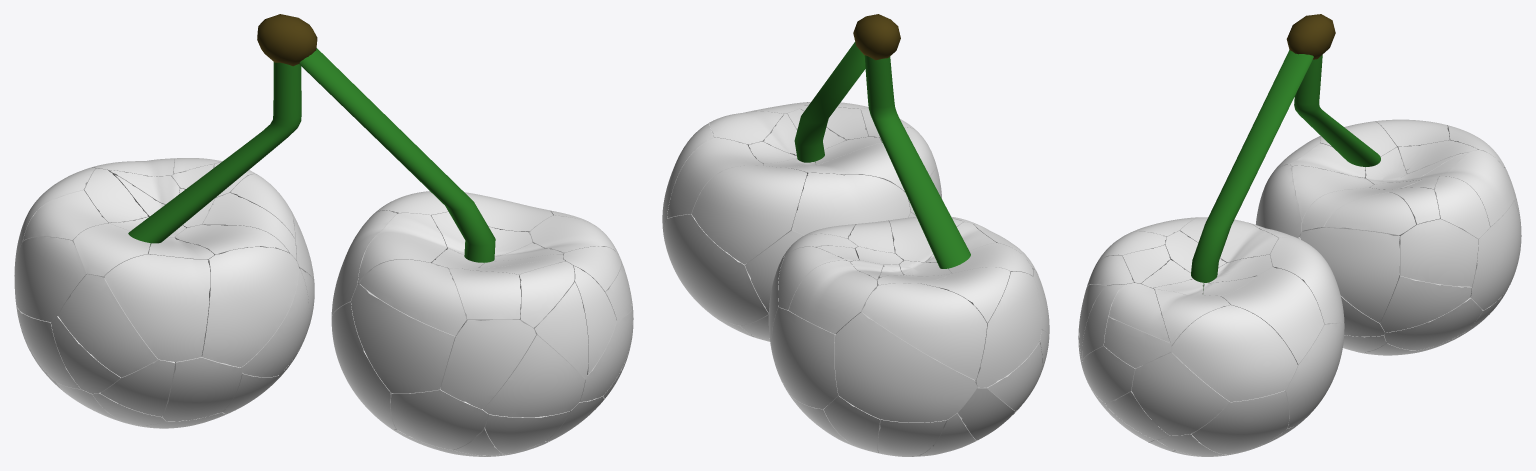
The model's file is Cherry Meledak (1).fbx.
The picture shows the model from 3 angles, left to right: view 1: azimuth 30°, elevation 25°; view 2: azimuth 150°, elevation 25°; view 3: azimuth 270°, elevation 25°; orthographic projection. The views are drawn at different scales.
Parts seen in each view (by area): view 1: Icosphere, Sphere.001_cell.001, Sphere.001_cell.009, Sphere_cell.027, Sphere_cell.019, Sphere.001_cell.039, Sphere_cell.021, Sphere_cell.016, Sphere.001_cell.045, Sphere_cell.001, Sphere.001_cell.021, Sphere_cell.034 (+36 smaller); view 2: Icosphere, Sphere.001_cell.027, Sphere_cell.006, Sphere.001_cell.047, Sphere_cell.028, Sphere_cell.037, Sphere.001_cell.013, Sphere.001_cell.045, Sphere.001_cell.002, Sphere_cell.038, Sphere.001_cell.017, Sphere_cell.005 (+28 smaller); view 3: Icosphere, Sphere_cell.044, Sphere.001_cell.044, Sphere_cell.036, Sphere_cell.038, Sphere.001_cell.014, Sphere_cell.010, Sphere.001_cell.013, Sphere_cell.028, Sphere.001_cell.007, Sphere_cell.006, Sphere.001_cell.029 (+33 smaller).
Part boxes in pixels (<box>): Icosphere: <box>128,14,495,262</box>; Sphere.001_cell.001: <box>201,247,298,367</box>; Sphere.001_cell.009: <box>104,254,210,361</box>; Sphere_cell.027: <box>351,283,464,393</box>; Sphere_cell.019: <box>440,319,535,409</box>; Sphere.001_cell.039: <box>58,274,157,377</box>; Sphere_cell.021: <box>359,259,466,335</box>; Sphere_cell.016: <box>483,334,585,417</box>; Sphere.001_cell.045: <box>14,236,86,321</box>; Sphere_cell.001: <box>390,387,488,449</box>; Sphere.001_cell.021: <box>162,357,241,421</box>; Sphere_cell.034: <box>331,302,396,429</box>; Icosphere: <box>794,14,970,268</box>; Sphere.001_cell.027: <box>834,312,977,422</box>; Sphere_cell.006: <box>691,165,806,264</box>; Sphere.001_cell.047: <box>861,283,986,380</box>; Sphere_cell.028: <box>663,214,768,325</box>; Sphere_cell.037: <box>791,173,910,235</box>; Sphere.001_cell.013: <box>771,307,838,408</box>; Sphere.001_cell.045: <box>975,271,1041,387</box>; Sphere.001_cell.002: <box>788,260,877,333</box>; Sphere_cell.038: <box>667,137,762,218</box>; Sphere.001_cell.017: <box>920,267,1010,323</box>; Sphere_cell.005: <box>787,142,904,209</box>; Icosphere: <box>1191,14,1380,290</box>; Sphere_cell.044: <box>1171,305,1297,401</box>; Sphere.001_cell.044: <box>1300,227,1399,322</box>; Sphere_cell.036: <box>1131,352,1229,435</box>; Sphere_cell.038: <box>1220,267,1324,364</box>; Sphere.001_cell.014: <box>1399,219,1478,286</box>; Sphere_cell.010: <box>1192,390,1288,454</box>; Sphere.001_cell.013: <box>1470,201,1521,310</box>; Sphere_cell.028: <box>1285,322,1344,428</box>; Sphere.001_cell.007: <box>1380,274,1471,332</box>; Sphere_cell.006: <box>1270,237,1344,323</box>; Sphere.001_cell.029: <box>1324,192,1416,236</box>.
Size of the model in its own units: 212 by 177 by 193.
